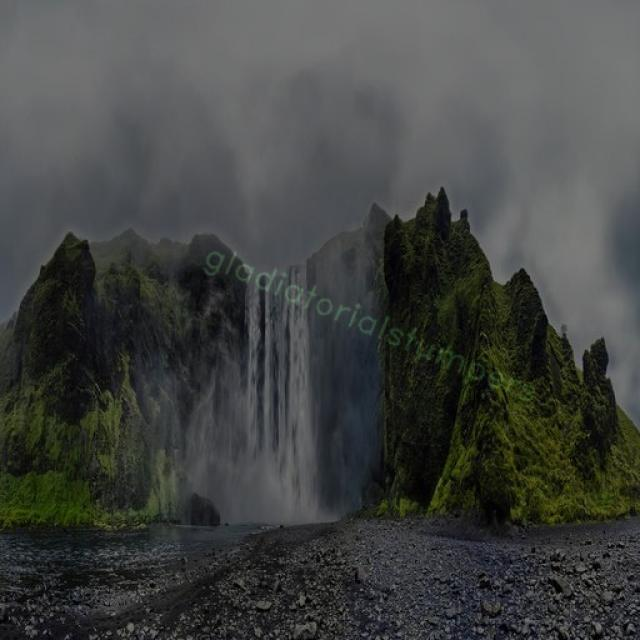watermark: (193, 238, 556, 410)
